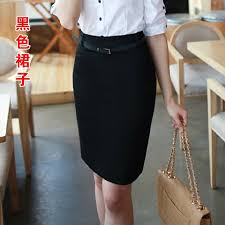F_tailored skirt: (67, 28, 158, 189)
